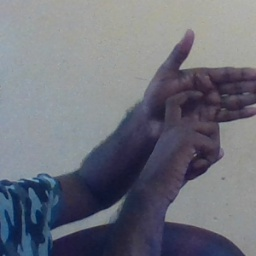R: (135, 25, 256, 182)
